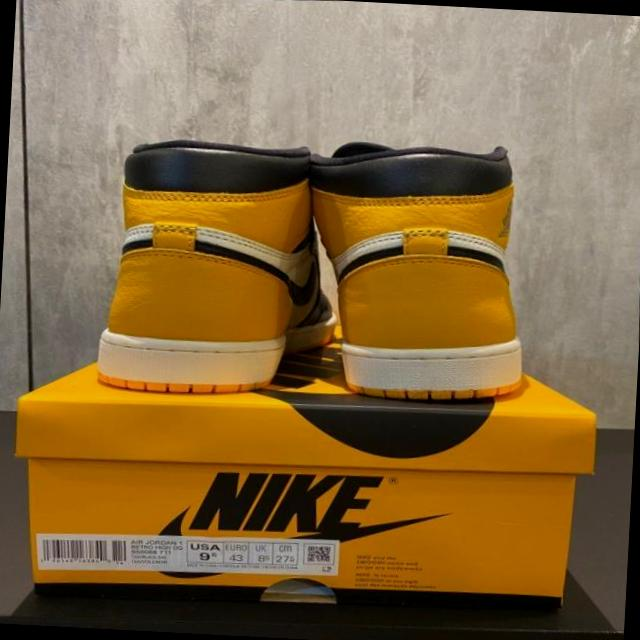nike_original_jordan: (81, 130, 358, 408), (304, 136, 541, 414)
